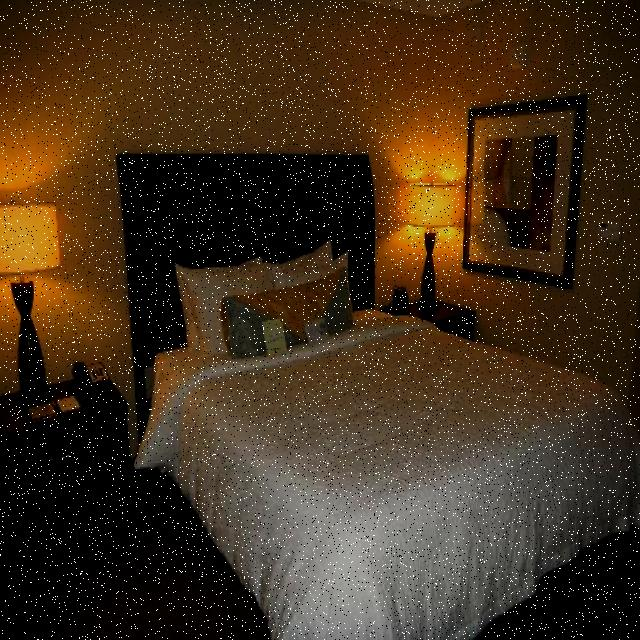bed: (142, 248, 640, 638)
